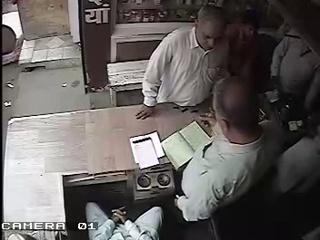Normal: (174, 76, 280, 228), (268, 0, 320, 237), (135, 4, 229, 122), (85, 202, 163, 239)
